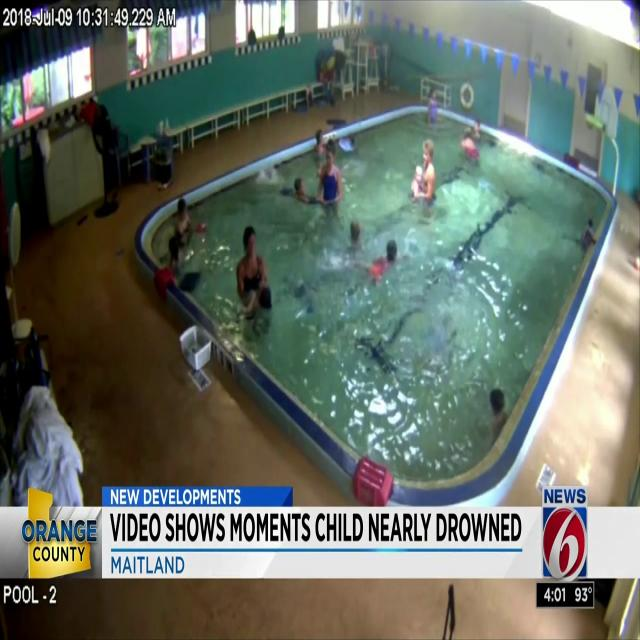adult: (236, 225, 268, 292), (318, 141, 344, 204), (370, 235, 401, 277), (422, 139, 435, 203), (175, 199, 195, 238), (461, 127, 483, 160)
child: (486, 386, 514, 446), (280, 177, 313, 203), (339, 215, 364, 247), (168, 237, 189, 274), (578, 218, 598, 253), (412, 162, 428, 202), (426, 86, 440, 127), (472, 114, 483, 136)
